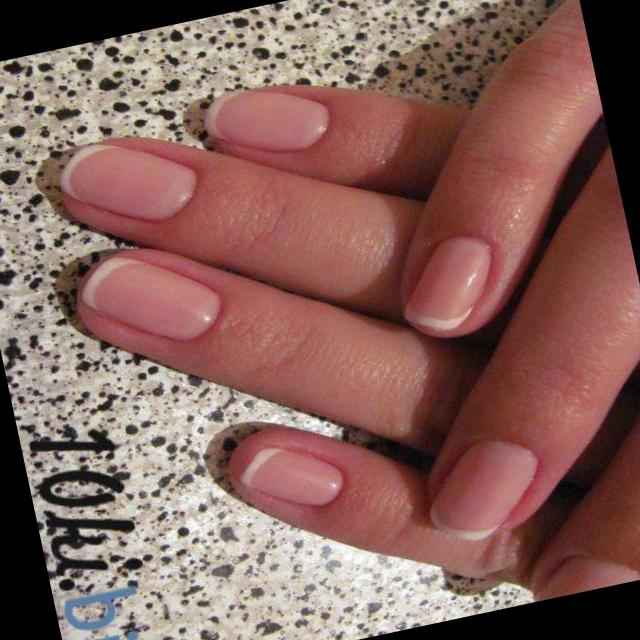Nail: (79, 257, 220, 341), (427, 440, 537, 540), (59, 142, 196, 220), (401, 235, 490, 330), (203, 88, 328, 152), (239, 447, 340, 506), (533, 555, 640, 602)
